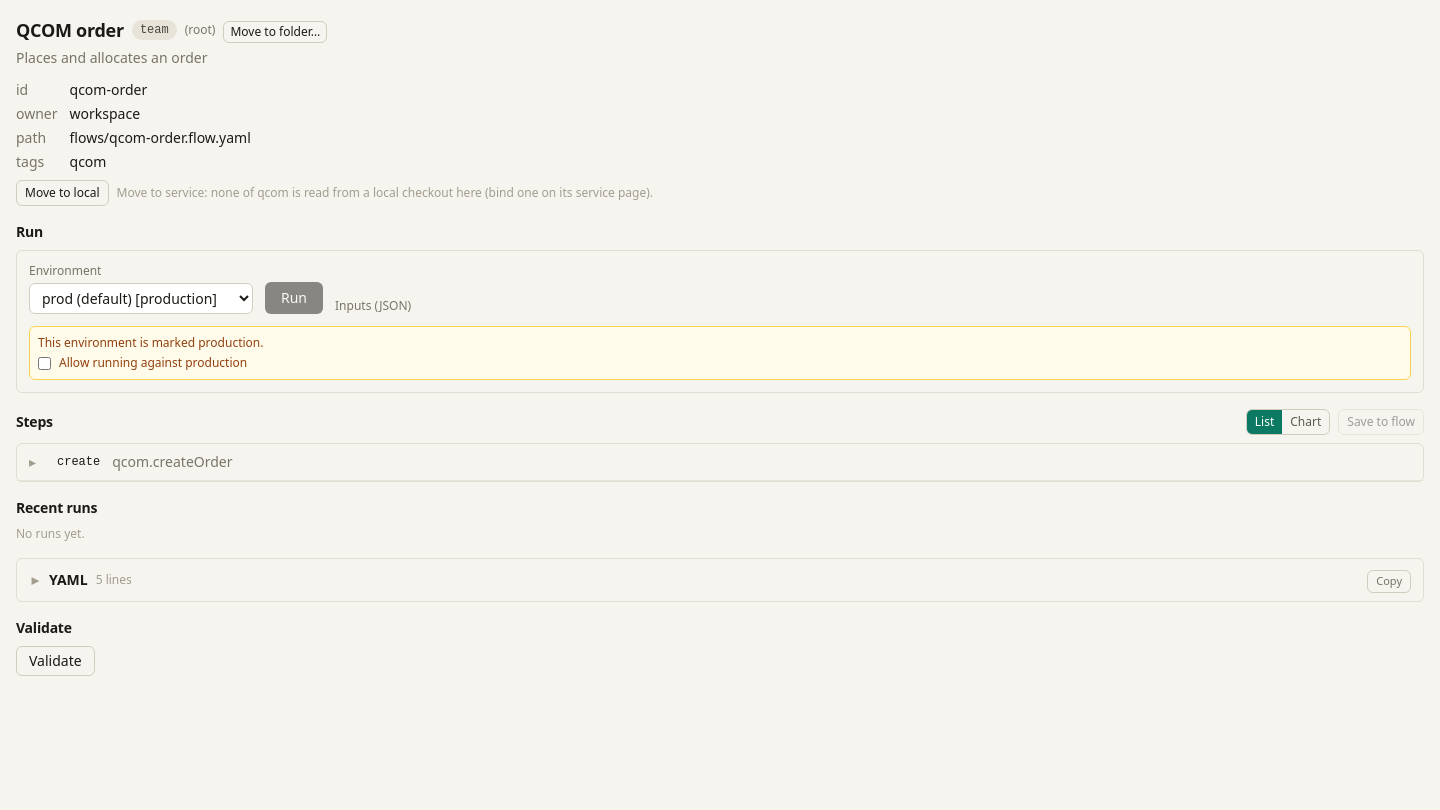
FlowDetailPage › drops the production tick when the environment changes
Expected: the text "This environment is marked production." is shown, [38,334,264,351]
Click the checkbox labelled "Allow running against production" at (44, 363), box [38,356,51,370]
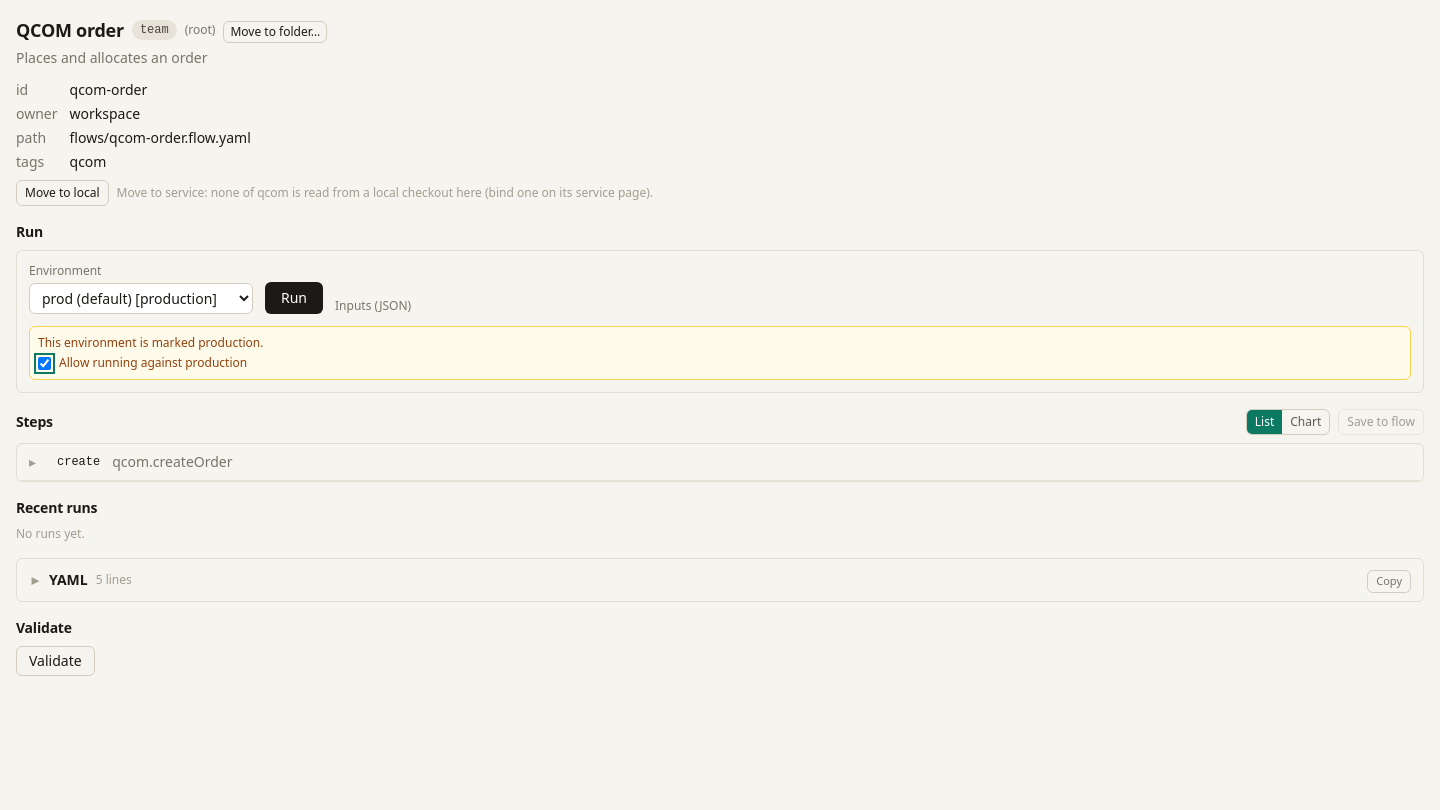
Expected: the button "Run" is enabled, [265,282,323,314]
Select "stage" in the dropdown at (141, 298), box [29,283,253,314]
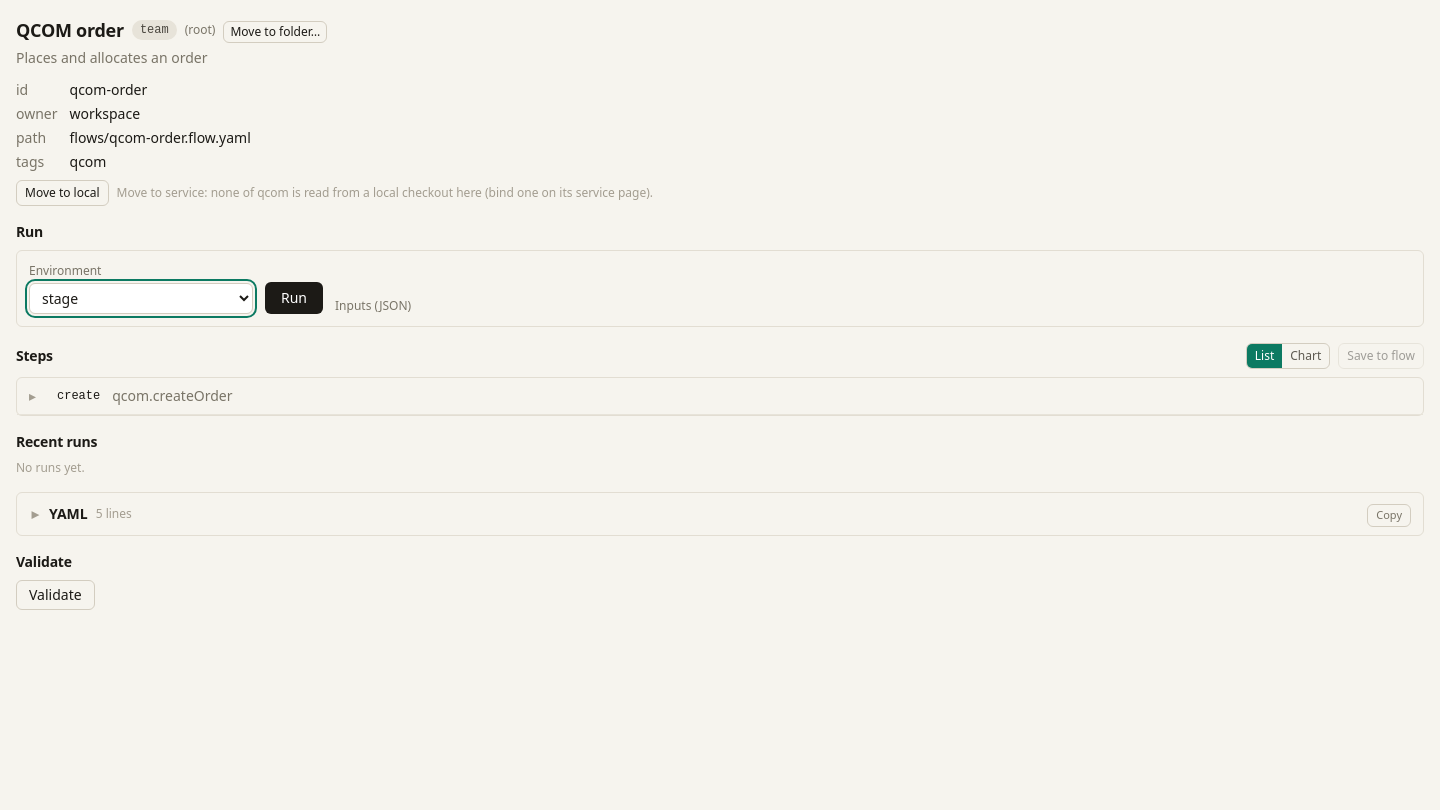
Expected: the text "This environment is marked production." is gone
Select "prod (default) [production]" in the dropdown at (141, 298), box [29,283,253,314]
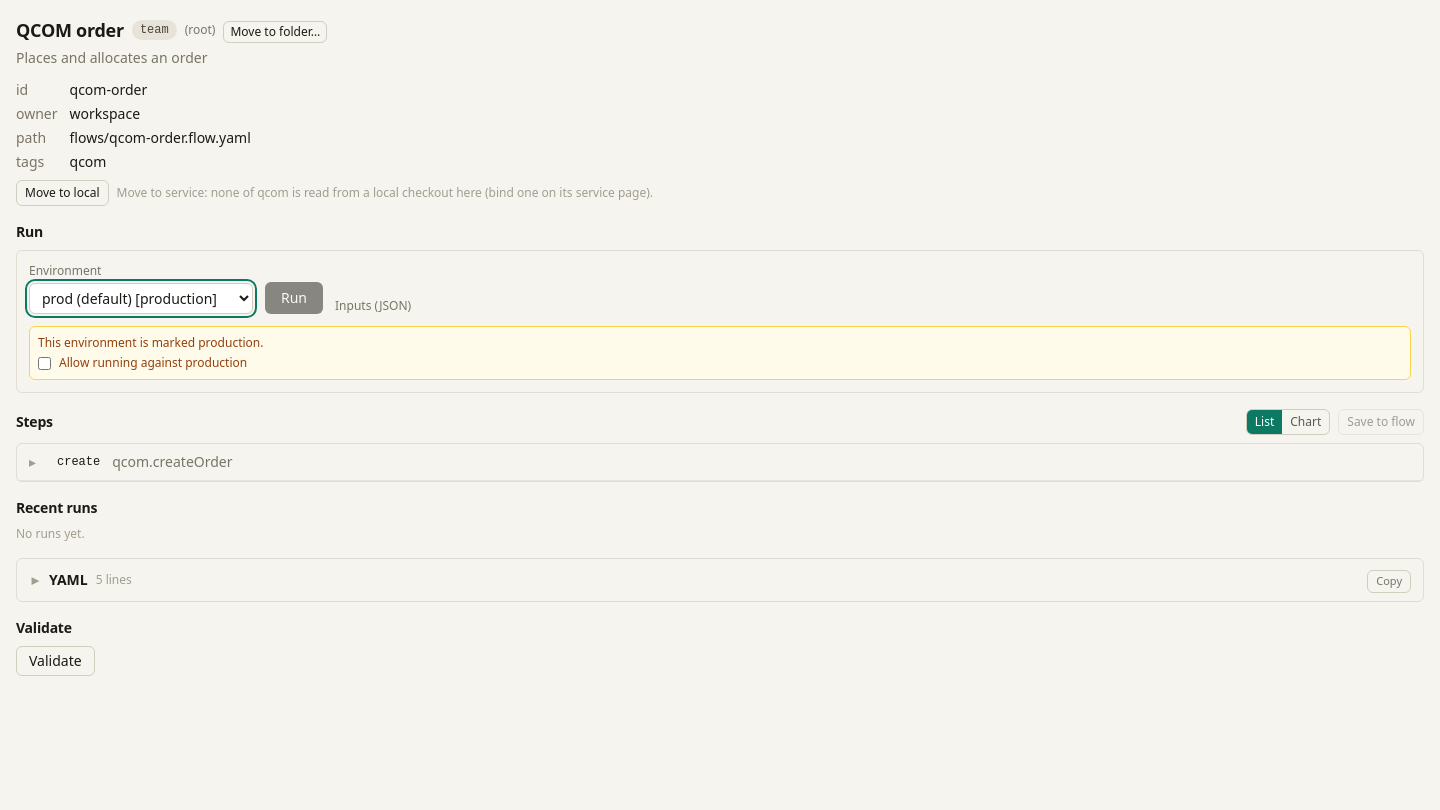
Expected: the checkbox labelled "Allow running against production" is not checked, [38,356,51,370]
Expected: the button "Run" is disabled, [265,282,323,314]
